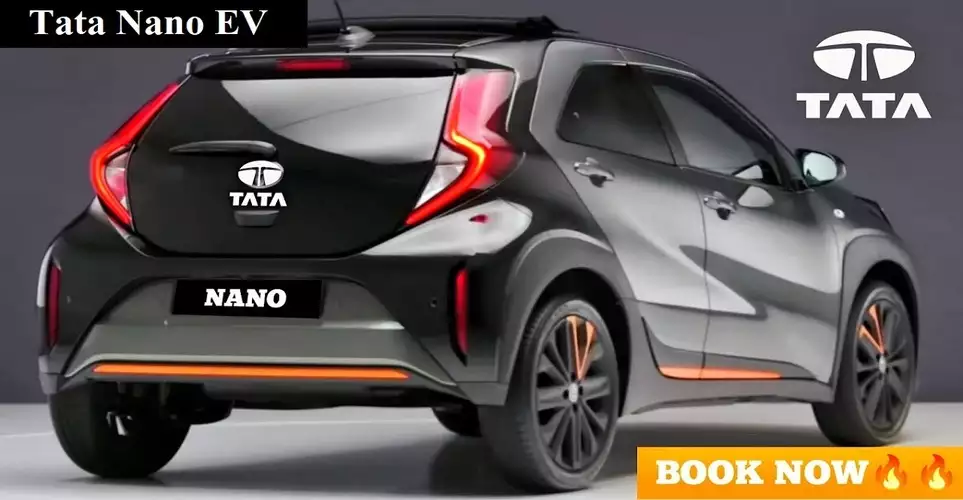Nano: (34, 11, 923, 498)
